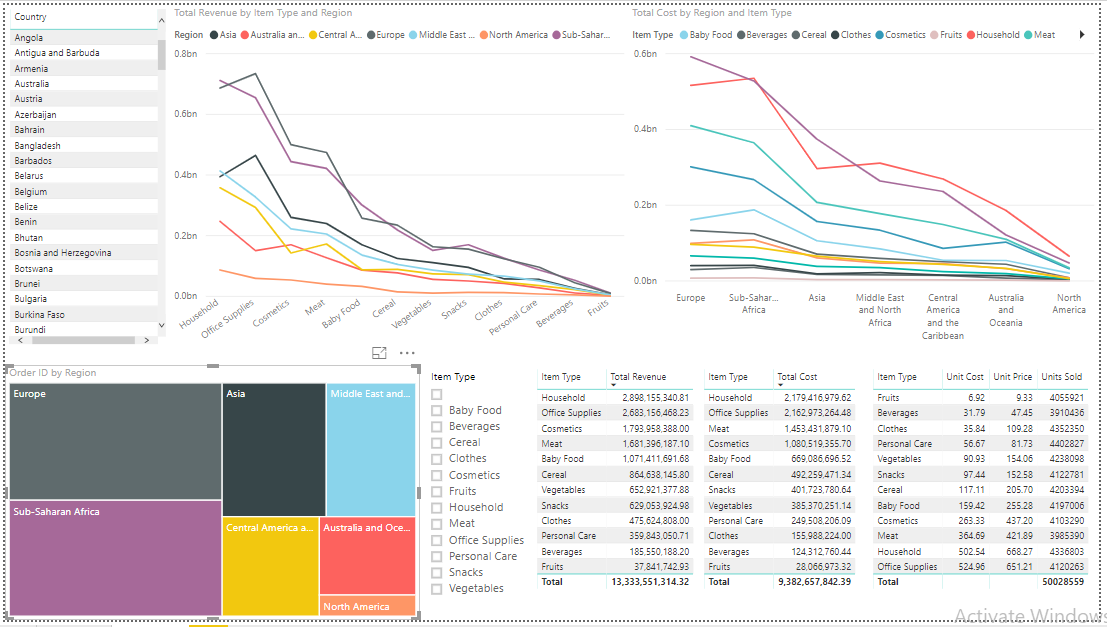

The dashboard page shown, as its layout file describes it:
{"tool":"powerbi","page":{"name":"Page 5","canvas":[1280,720],"ordinal":2},"visuals":[{"type":"lineChart","fields":{"Category":["Sales Records.Item Type"],"Series":["Sales Records.Country"],"Y":["Sum(Sales Records.Total Cost)"]},"box":[729.1,0,550.9,360.6],"z":2},{"type":"tableEx","fields":{"Values":["Sales Records.Item Type","Sum(Sales Records.Total Revenue)"]},"box":[616,449.7,195.6,270.1],"z":3},{"type":"treemap","fields":{"Group":["Sales Records.Region"],"Values":["CountNonNull(Sales Records.Order ID)"]},"box":[0,377.9,496.3,342],"z":4},{"type":"lineChart","fields":{"Category":["Sales Records.Item Type"],"Series":["Sales Records.Country"],"Y":["Sum(Sales Records.Total Revenue)"]},"box":[193.2,0,536.2,360.6],"z":5},{"type":"tableEx","fields":{"Values":["Sales Records.Item Type","Sales Records.Unit Cost","Sales Records.Unit Price","Sum(Sales Records.Units Sold)"]},"box":[1011.2,448.4,268.8,271.4],"z":6},{"type":"tableEx","fields":{"Values":["Sales Records.Item Type","Sum(Sales Records.Total Cost)"]},"box":[814.3,449.7,198.3,270.1],"z":6},{"type":"tableEx","fields":{"Values":["Sales Records.Country"]},"box":[0,0,192.9,360.6],"z":8},{"type":"slicer","fields":{"Values":["Sales Records.Item Type"]},"box":[485.7,455.1,130.4,259.5],"z":8},{"type":"slicer","fields":{"Values":["Sales Records.Order Date.Variation.Date Hierarchy.Year"]},"box":[485.7,360.6,175.6,99.8],"z":9}]}

Visuals, with their boxes on the page's 1280x720 design canvas (x1, y1, x2, y2). These are canvas units, not pixel positions in the 1107x627 screenshot, which may show the page scaled, cropped or inside an application window:
lineChart - Sales Records.Item Type x Sales Records.Country: <box>729,0,1280,361</box>
tableEx - Sales Records.Item Type x Sum(Sales Records.Total Revenue): <box>616,450,812,720</box>
treemap - Sales Records.Region x CountNonNull(Sales Records.Order ID): <box>0,378,496,720</box>
lineChart - Sales Records.Item Type x Sales Records.Country: <box>193,0,729,361</box>
tableEx - Sales Records.Item Type x Sales Records.Unit Cost: <box>1011,448,1280,720</box>
tableEx - Sales Records.Item Type x Sum(Sales Records.Total Cost): <box>814,450,1013,720</box>
tableEx - Sales Records.Country: <box>0,0,193,361</box>
slicer - Sales Records.Item Type: <box>486,455,616,715</box>
slicer - Sales Records.Order Date.Variation.Date Hierarchy.Year: <box>486,361,661,460</box>
